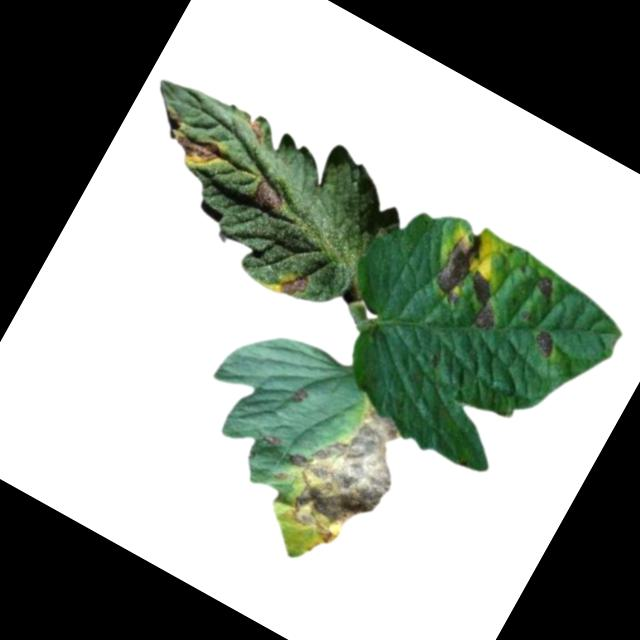Early_blight: (260, 380, 423, 558), (421, 227, 528, 335), (169, 123, 231, 178), (246, 172, 295, 219), (277, 265, 313, 302), (532, 273, 564, 304), (531, 328, 561, 356), (242, 116, 270, 144), (263, 427, 288, 451), (289, 381, 312, 406)
